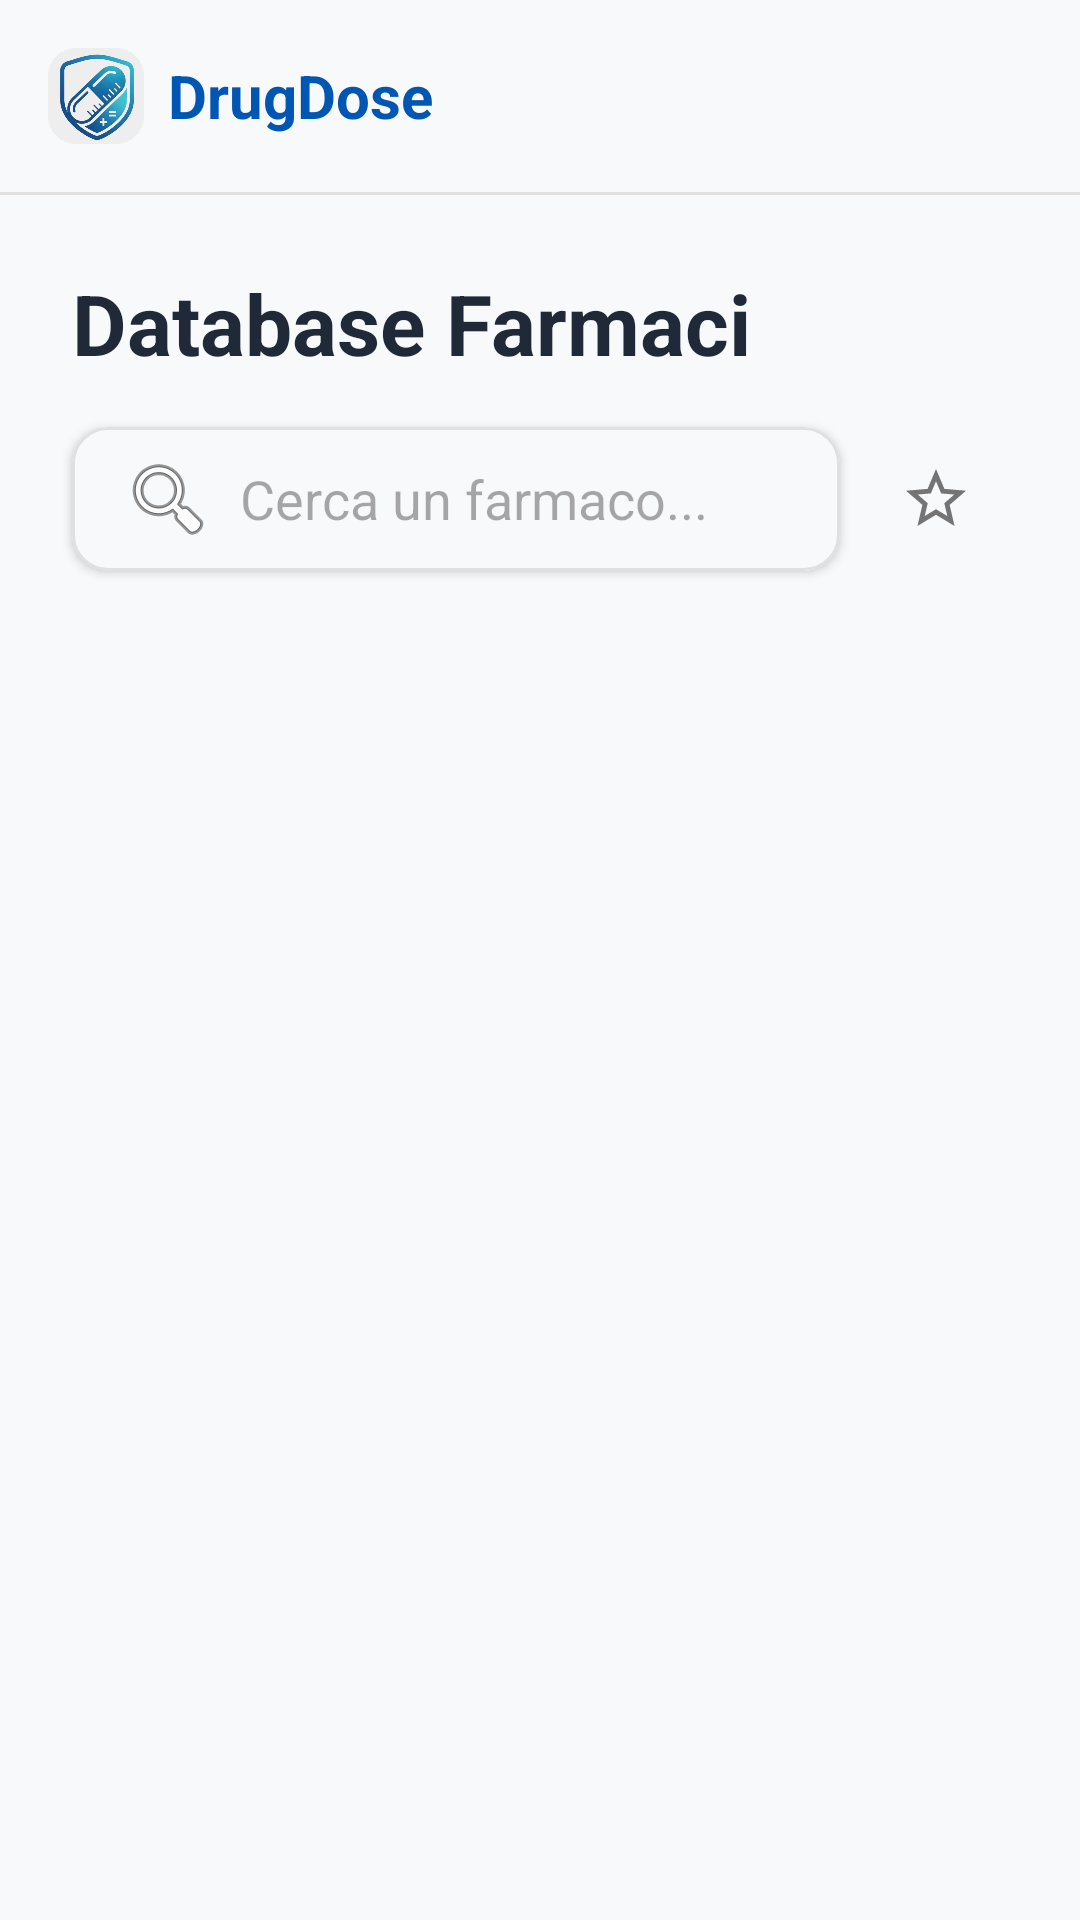

Where to tap for icons on this 1080px×1920px app screen, as point (x, y):
star: point (936, 497)
